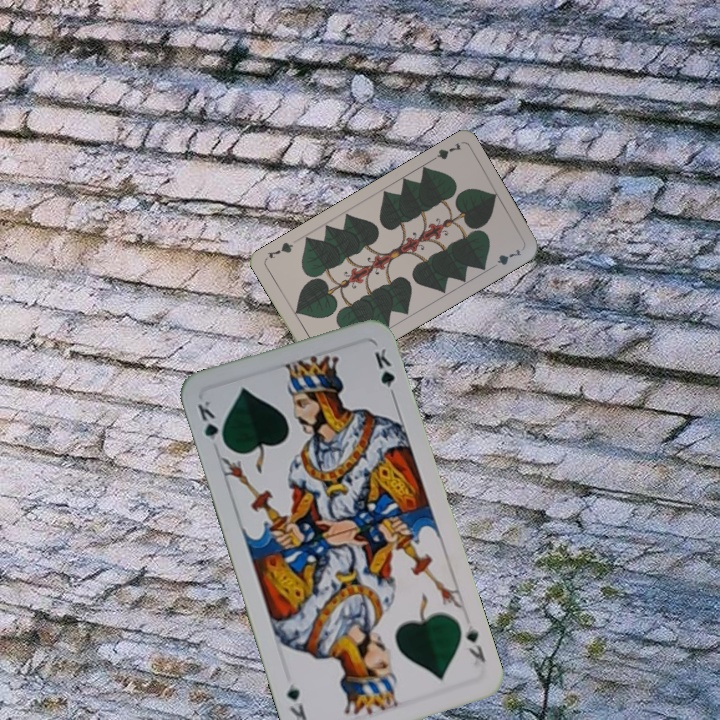G7: (425, 139, 464, 165)
GK: (193, 396, 229, 450), (462, 621, 489, 666)
